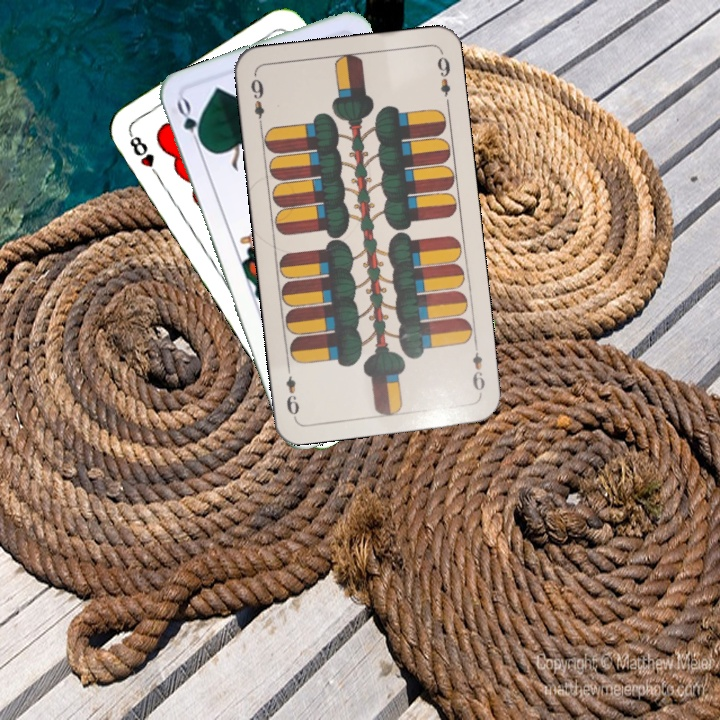E9: (247, 71, 267, 131), (468, 338, 487, 397)
GO: (172, 95, 209, 153)
H8: (124, 129, 163, 182)
